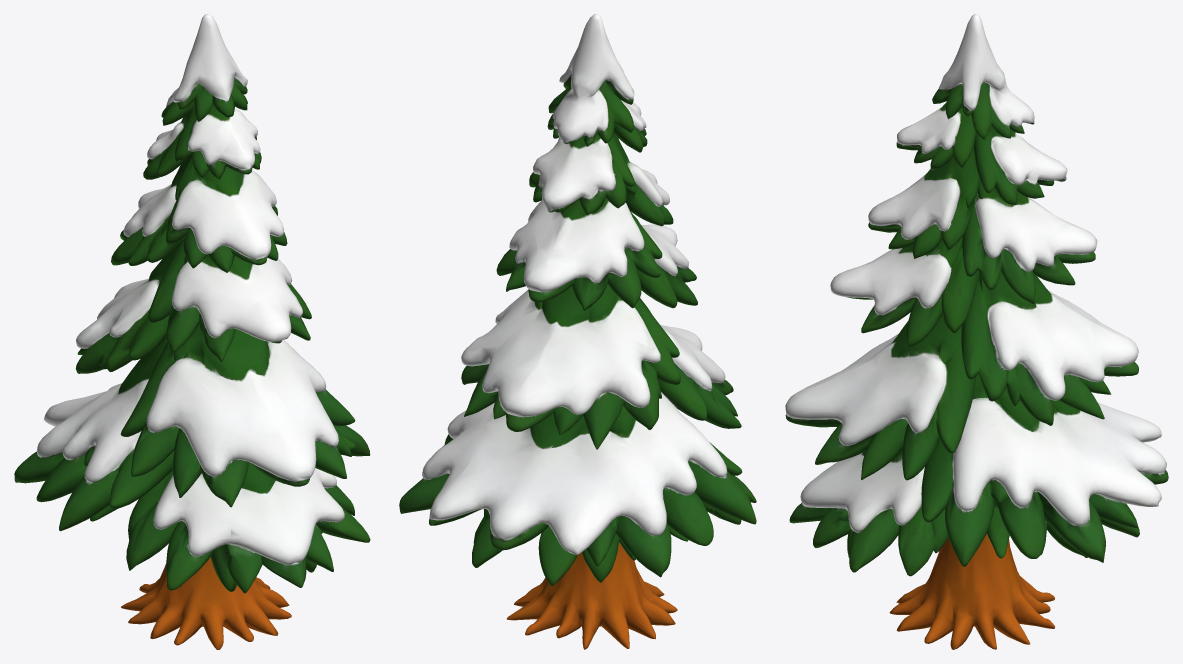
File: pine_snow_a.glb
3 views of the same model, side by side, from view 1: azimuth 30°, elevation 25°; view 2: azimuth 150°, elevation 25°; view 3: azimuth 270°, elevation 25° (orthographic).
Parts seen in each view (by area): view 1: tripo_node_a7171493-8969-424a-afb3-c34778330866; view 2: tripo_node_a7171493-8969-424a-afb3-c34778330866; view 3: tripo_node_a7171493-8969-424a-afb3-c34778330866.
Part boxes in pixels (x1=…): tripo_node_a7171493-8969-424a-afb3-c34778330866: x1=14, y1=14, x2=370, y2=649; tripo_node_a7171493-8969-424a-afb3-c34778330866: x1=399, y1=14, x2=756, y2=649; tripo_node_a7171493-8969-424a-afb3-c34778330866: x1=785, y1=14, x2=1168, y2=649.
Size of the model in its own units: 2.81 by 5.2 by 3.
1 material, 1 textured.
